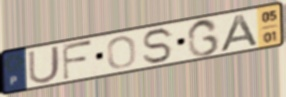A: (218, 12, 261, 53)
F: (61, 39, 95, 82)
G: (186, 18, 221, 58)
O: (105, 35, 138, 70)
S: (141, 26, 176, 66)
U: (27, 43, 62, 86)
